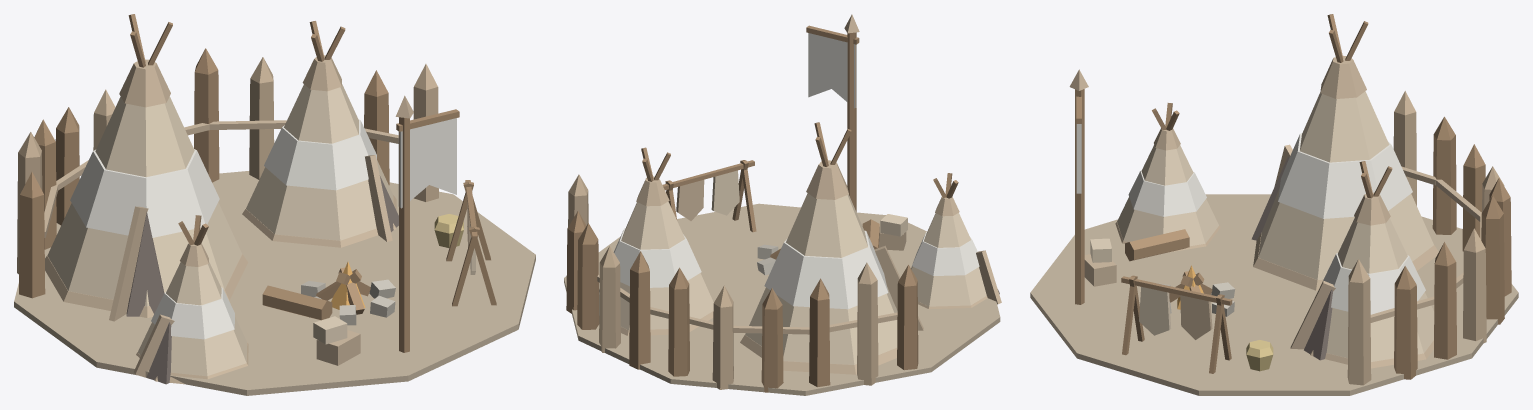
Rendered from camp.glb.
3 renders of one model, left to right at view 1: azimuth 30°, elevation 25°; view 2: azimuth 150°, elevation 25°; view 3: azimuth 270°, elevation 25°, orthographic. The views are drawn at different scales.
Visible parts, largest first — view 1: camp; view 2: camp; view 3: camp.
Part boxes in pixels (bbox=[...]): camp: bbox=[14, 14, 535, 395]; camp: bbox=[564, 14, 1001, 395]; camp: bbox=[1030, 14, 1518, 395].
Size of the model in its own units: 0.9511 by 0.5472 by 1.
